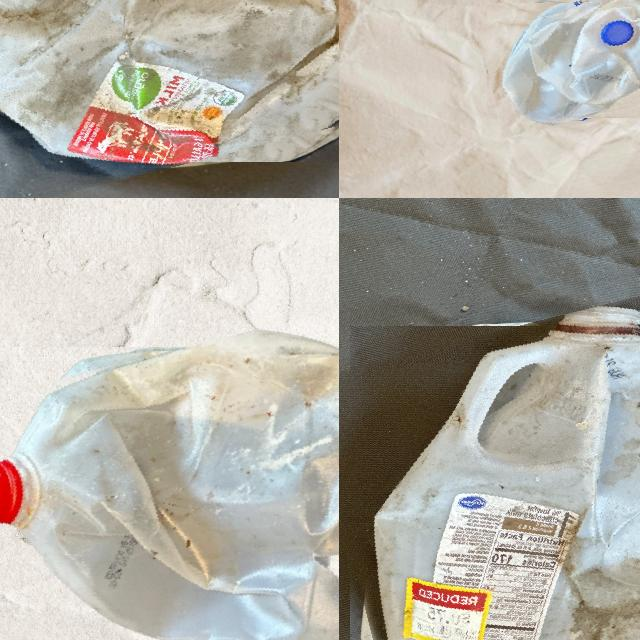milk-jug: (0, 322, 339, 640), (339, 306, 640, 640), (0, 0, 339, 189), (479, 0, 640, 128)
